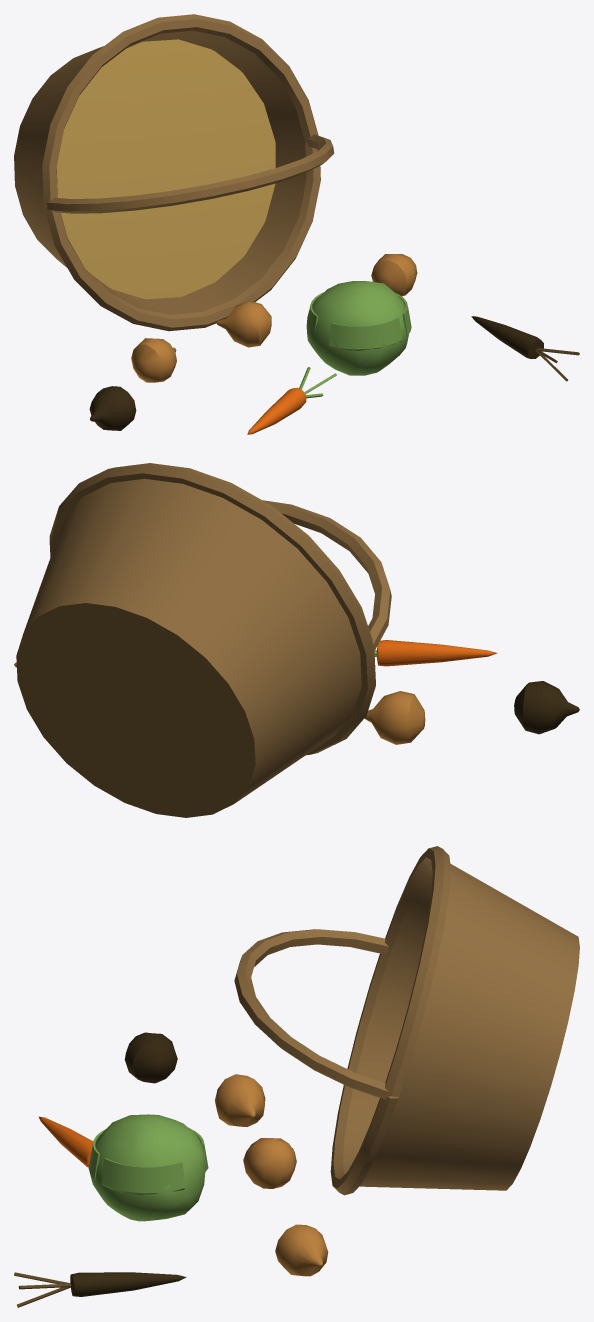
File: gemuesekorb_kaputt.glb
The picture shows the model from 3 angles, top to bottom: view 1: azimuth 30°, elevation 25°; view 2: azimuth 150°, elevation 25°; view 3: azimuth 270°, elevation 25°; orthographic projection. The views are drawn at different scales.
Visible parts, largest first — view 1: gemuesekorb_kaputt; view 2: gemuesekorb_kaputt; view 3: gemuesekorb_kaputt.
Part boxes in pixels (x1=…): gemuesekorb_kaputt: x1=14, y1=14, x2=579, y2=434; gemuesekorb_kaputt: x1=14, y1=463, x2=579, y2=817; gemuesekorb_kaputt: x1=14, y1=846, x2=579, y2=1307.
Bounding box in the file's own units: 0.7372 × 0.4537 × 0.7225.
